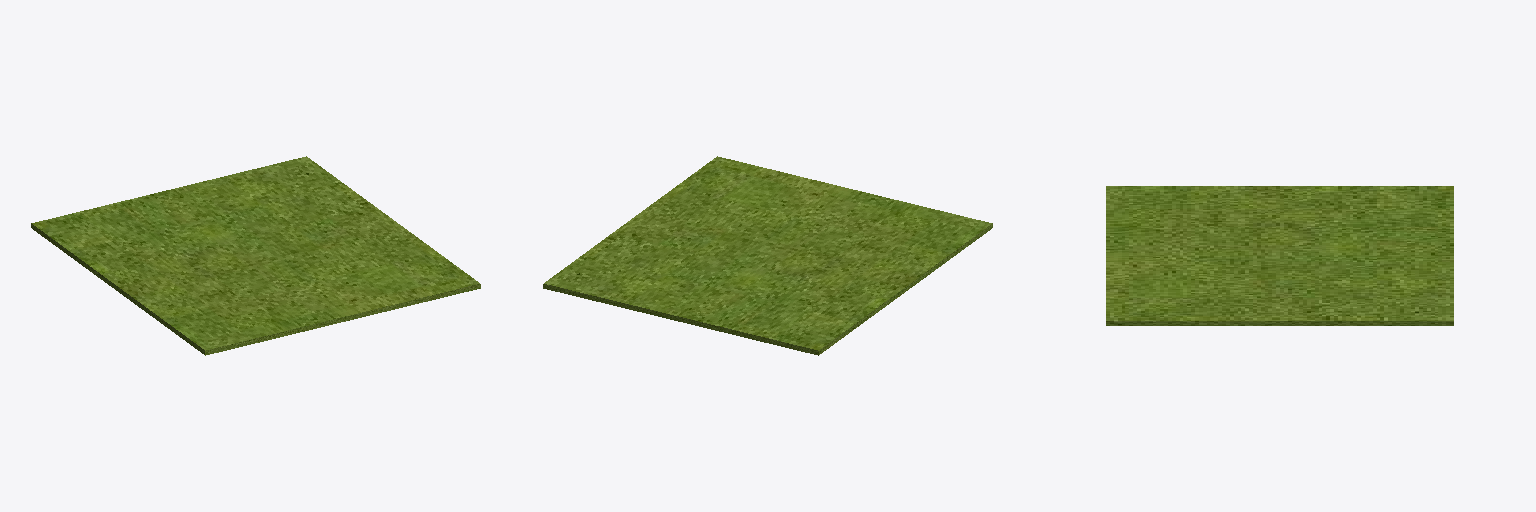
3 renders of one model, left to right at view 1: azimuth 30°, elevation 25°; view 2: azimuth 150°, elevation 25°; view 3: azimuth 270°, elevation 25°, orthographic.
Visible parts, largest first — view 1: Cube; view 2: Cube; view 3: Cube.
Boxes of the visible parts, x1=… form: Cube: x1=31, y1=156, x2=480, y2=355; Cube: x1=543, y1=156, x2=992, y2=355; Cube: x1=1106, y1=186, x2=1453, y2=325.
Size of the model in its own units: 12.62 by 0.2206 by 13.82.
Materials: 1 (1 with a texture image).